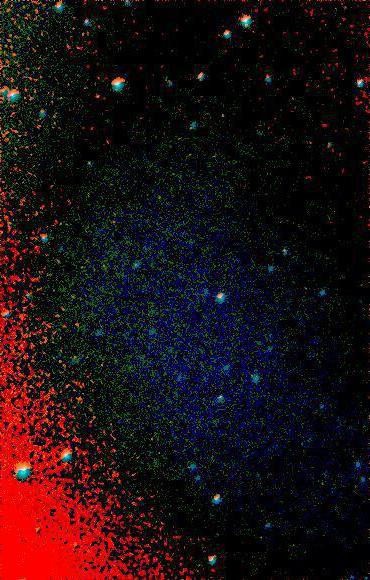star: (85, 80, 115, 110)
